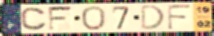7: (112, 6, 131, 31)
C: (19, 7, 49, 31)
D: (140, 4, 166, 31)
F: (47, 5, 75, 32), (166, 4, 194, 31)
O: (80, 5, 108, 32)
